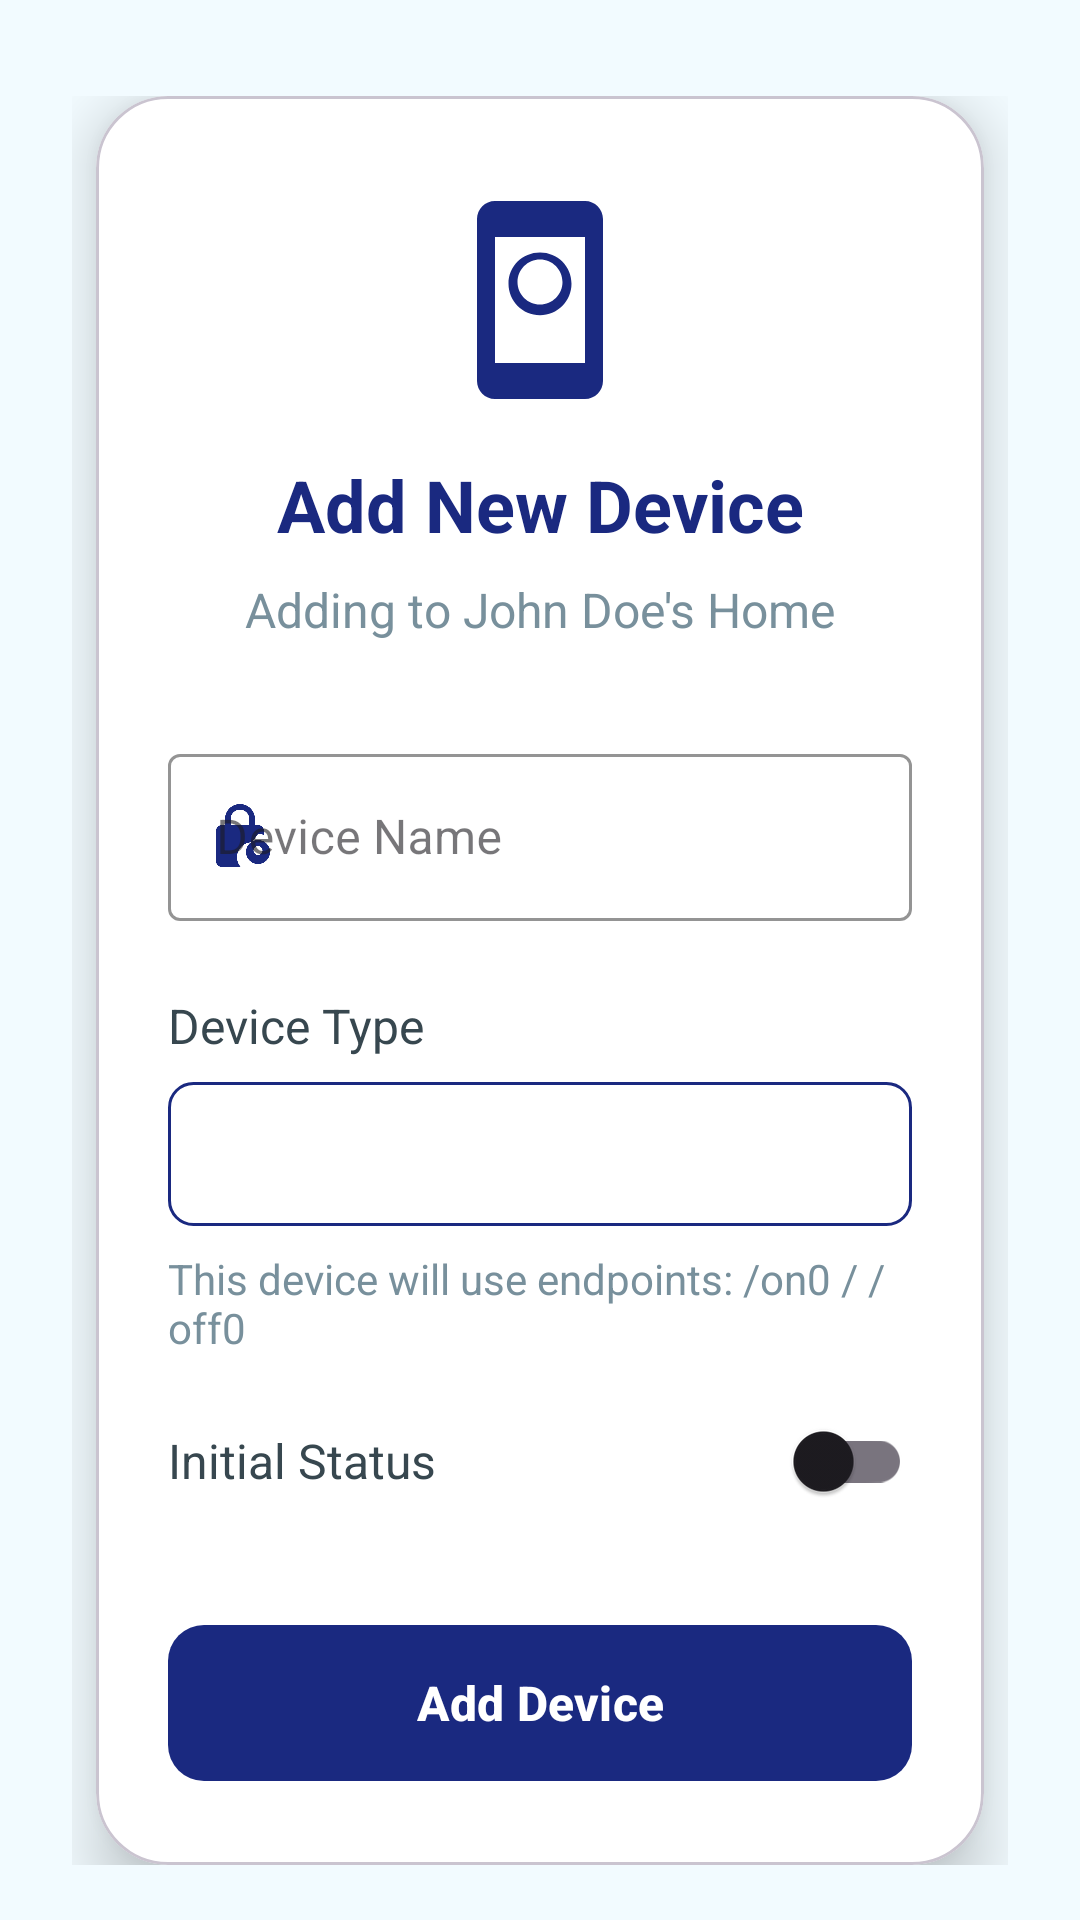

Icons on this 1080*1920 Android screen, each with the point to tap as (x,y):
smart device: (540,300)
